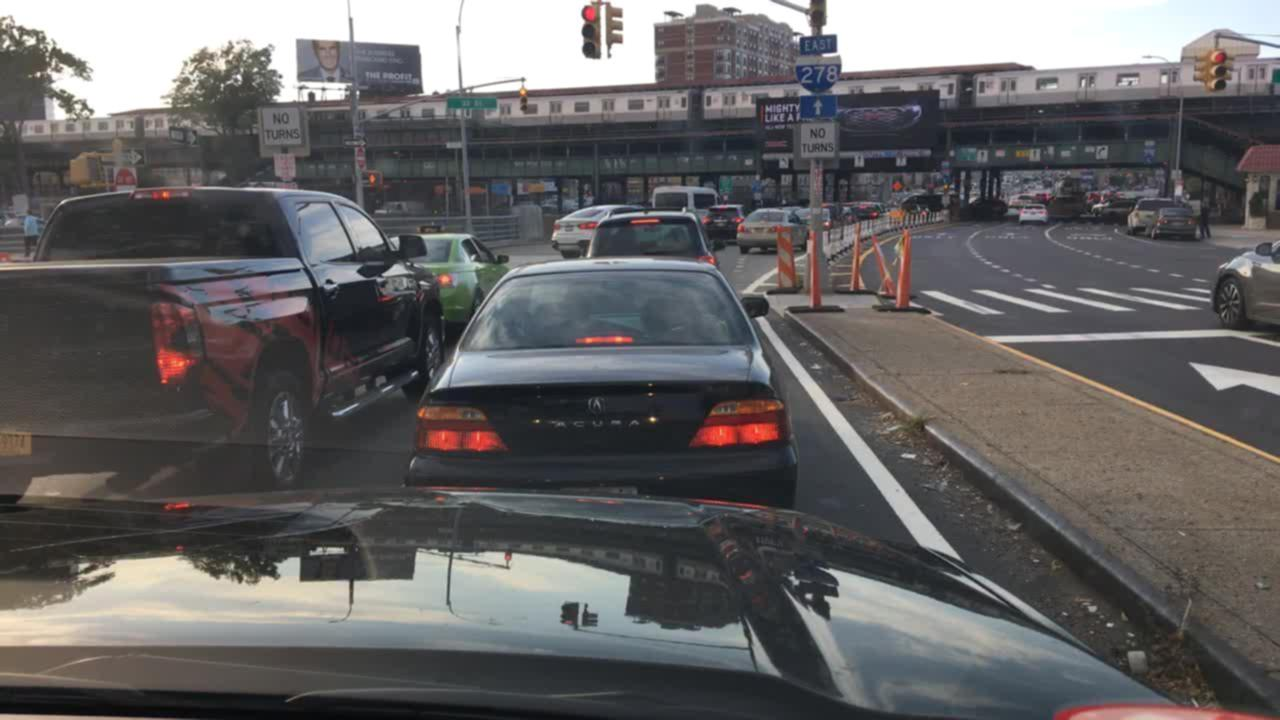acura: (582, 391, 608, 421)
